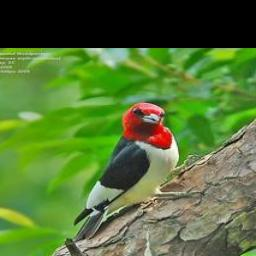Woodpecker: (66, 101, 198, 241)
